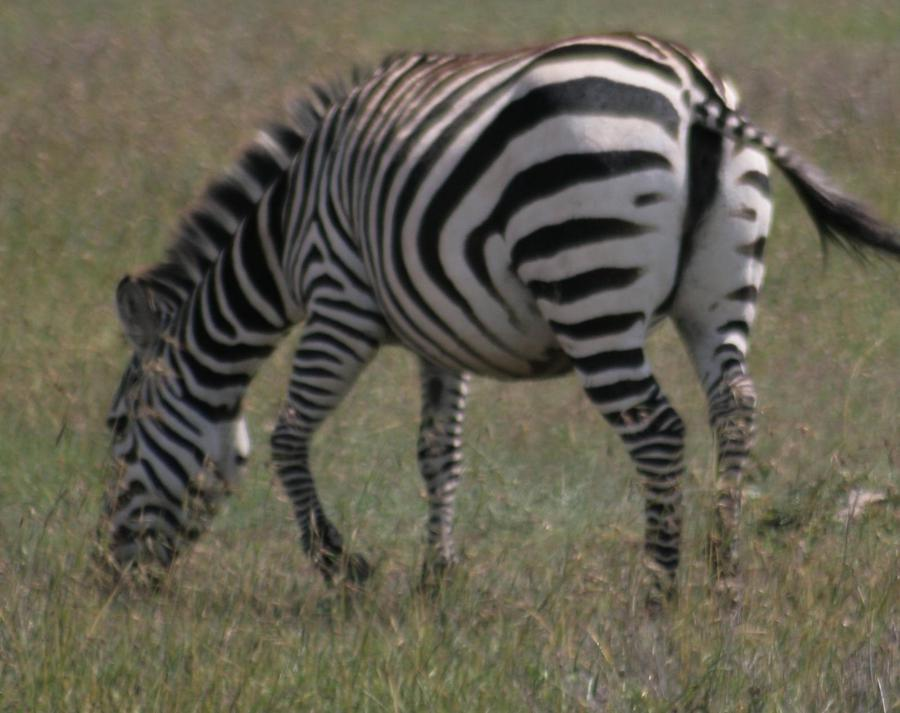zebra_plains: (263, 42, 684, 415)
